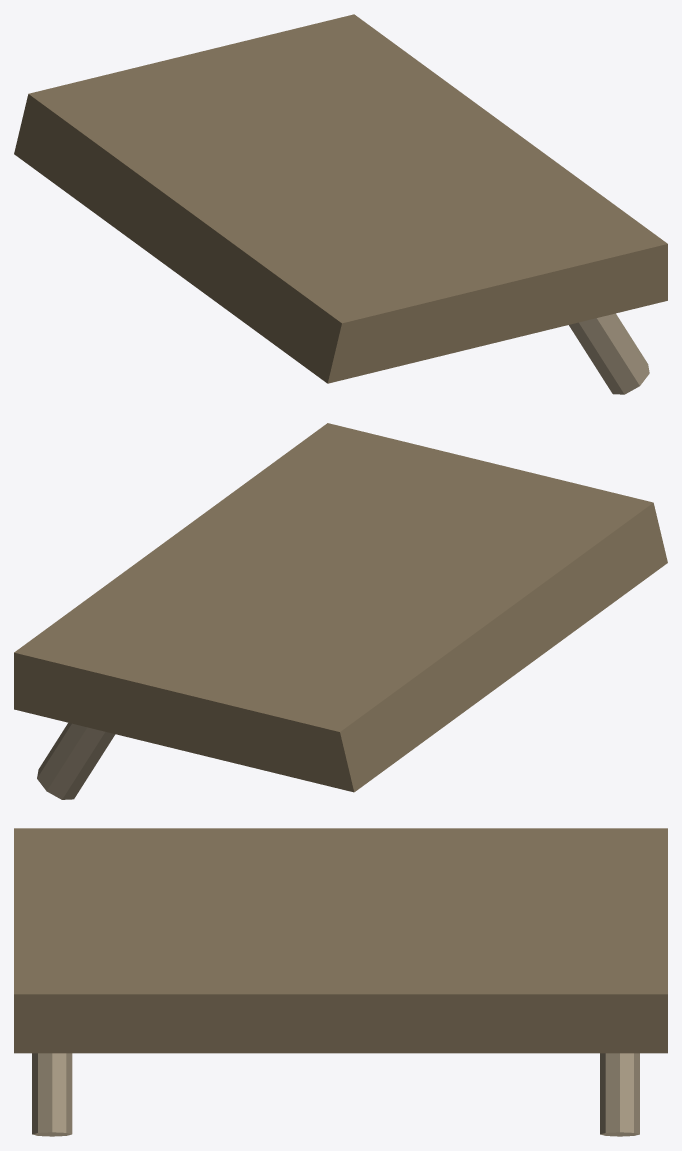
Rendered from bathroom_pantry_shelf.fbx.
3 views of the same model, one above another, from view 1: azimuth 30°, elevation 25°; view 2: azimuth 150°, elevation 25°; view 3: azimuth 270°, elevation 25° (orthographic). The views are drawn at different scales.
Visible parts, largest first — view 1: Cube, Cylinder.001; view 2: Cube, Cylinder; view 3: Cube, Cylinder.001, Cylinder.
Boxes of the visible parts, x1,y1,x2,y2 form: Cube: [14, 14, 667, 383]; Cylinder.001: [569, 313, 649, 394]; Cube: [14, 423, 667, 792]; Cylinder: [37, 723, 115, 799]; Cube: [14, 828, 667, 1053]; Cylinder.001: [32, 1053, 72, 1136]; Cylinder: [600, 1053, 639, 1136].
Bounding box in the file's own units: 62.64 × 27.2 × 100.
